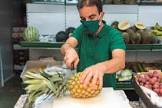Pineapple: (22, 66, 103, 101)
